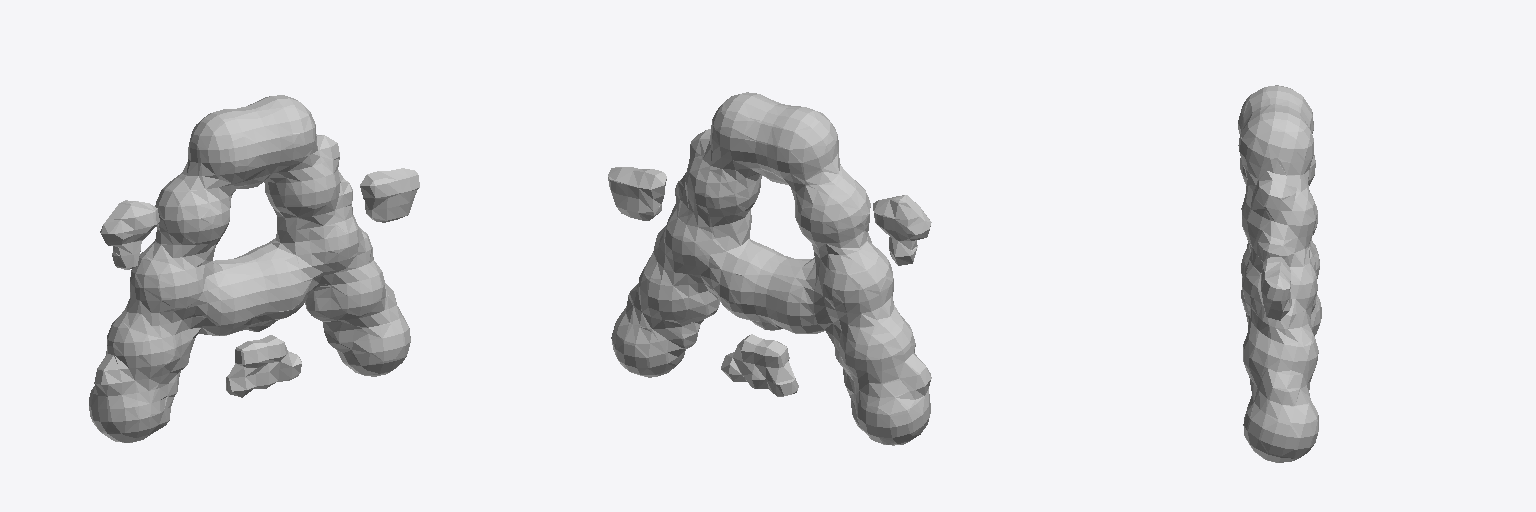
The model's file is acloud.obj.
3 renders of one model, left to right at view 1: azimuth 30°, elevation 25°; view 2: azimuth 150°, elevation 25°; view 3: azimuth 270°, elevation 25°, orthographic.
Parts seen in each view (by area): view 1: Mball; view 2: Mball; view 3: Mball.
Boxes of the visible parts, box(x1,y1,x2,y2) form: Mball: box(89, 95, 419, 442); Mball: box(608, 92, 931, 445); Mball: box(1238, 85, 1321, 462).
Bounding box in the file's own units: 11.05 × 10.17 × 2.52.